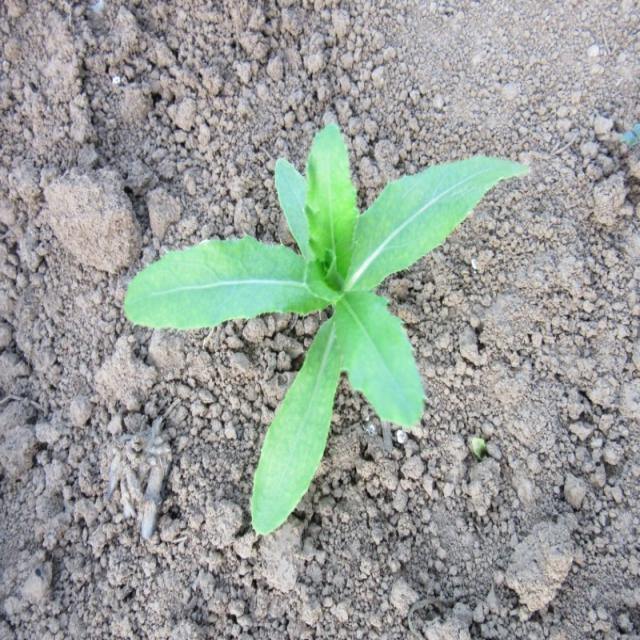cs: (121, 116, 532, 539)
